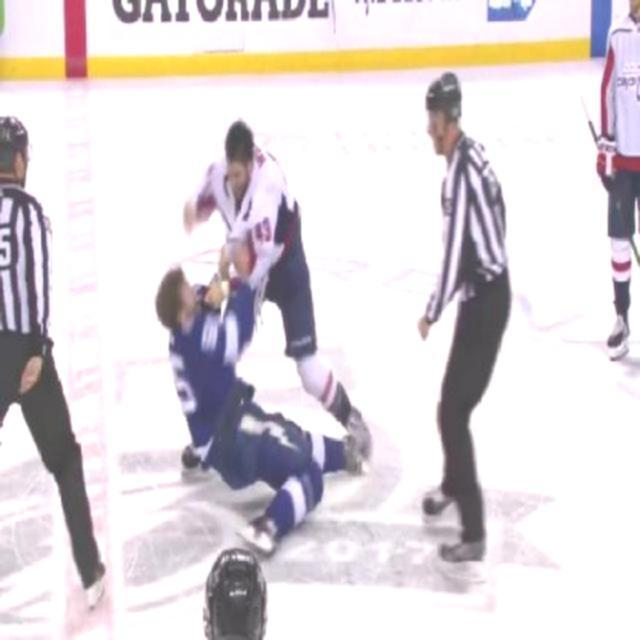fight: (148, 114, 374, 550)
